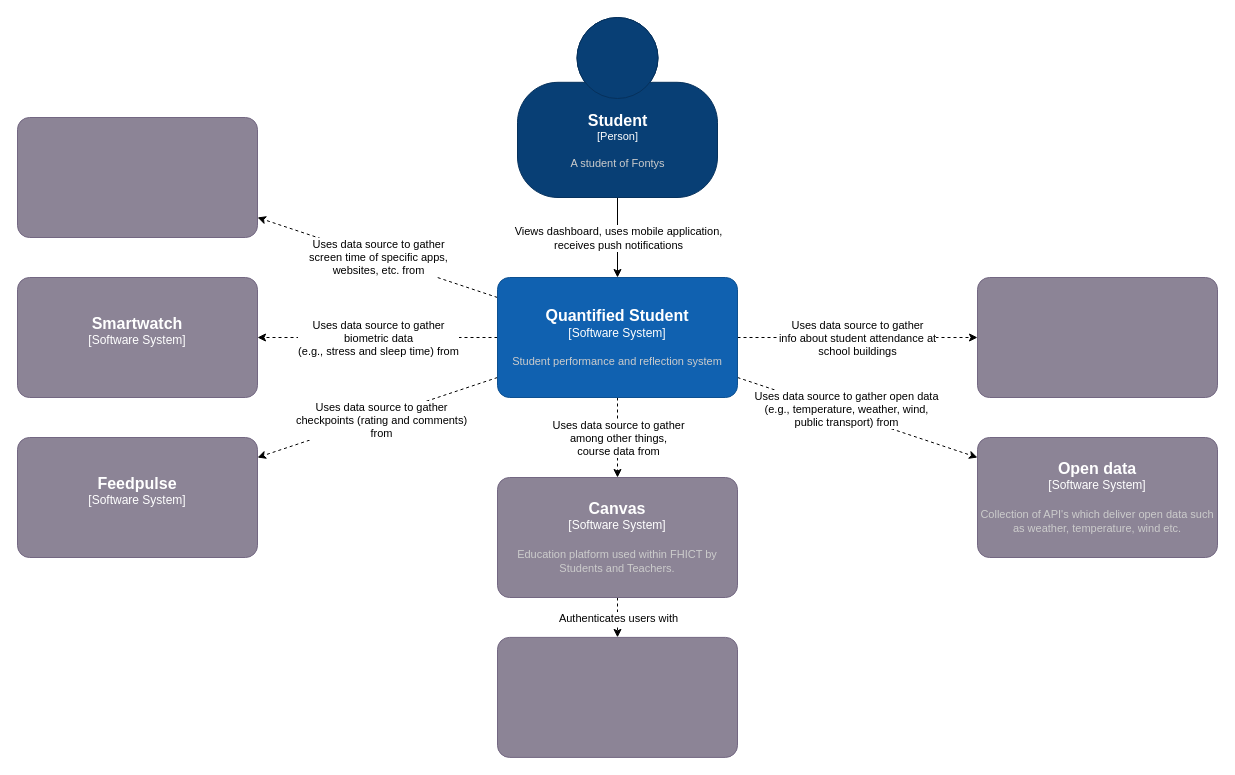
Image size: 1235x775. Some labels were removed from this diagram. Here are the shapes that lost their labels. From the top down, the box of each, then its label:
(16, 116, 258, 238): Screentime [Software System]
(976, 276, 1218, 398): WiFi Attendance [Software System]
(496, 636, 738, 757): FHICT Identity Server [Software System] Used for authenticating FHICT users
